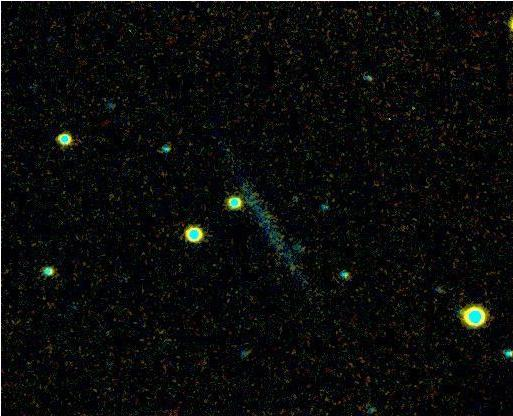star: (279, 250, 309, 280)
